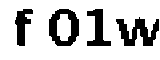0: (44, 7, 83, 50)
1: (83, 7, 112, 48)
f: (11, 6, 38, 49)
w: (113, 13, 160, 50)
